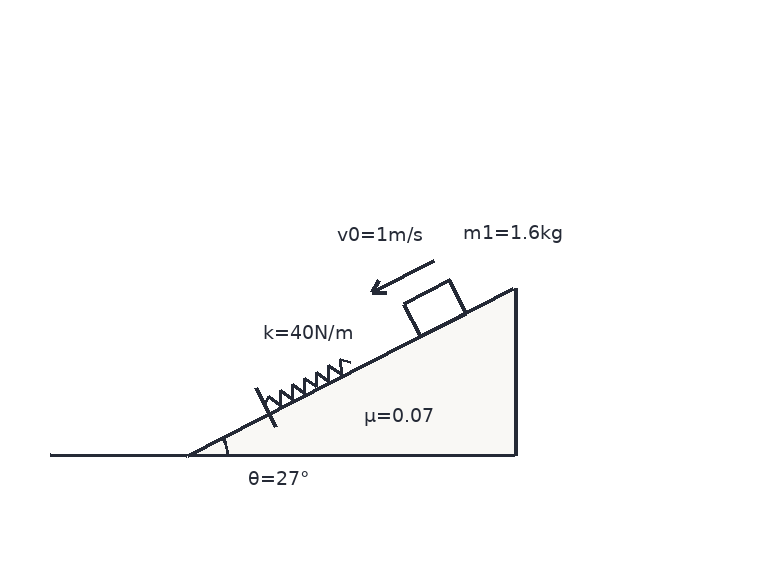block: (401, 278, 467, 338)
ramp: (185, 286, 516, 457)
spring: (263, 357, 352, 407)
